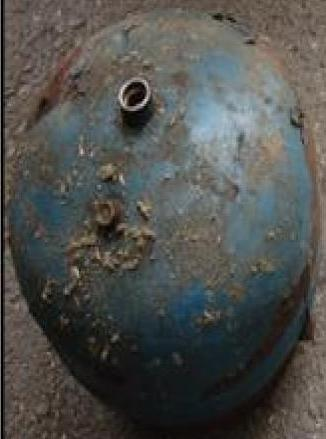cylinder: (1, 1, 326, 439)
